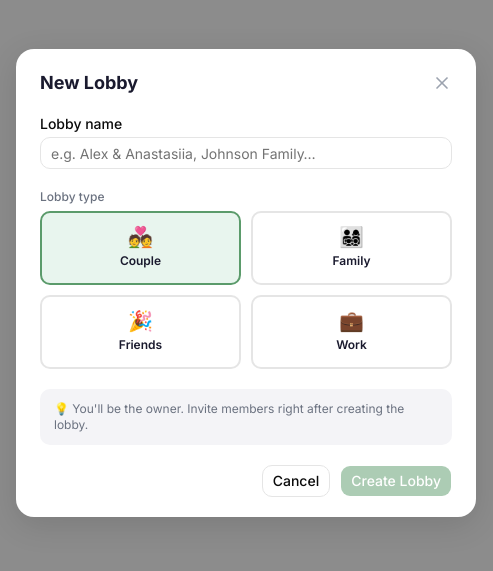
CreateLobbyModal › shows a generic error when the server fails unexpectedly (500)
In the field labelled "Lobby name": (246, 153) [40,137,452,169], type "Weekend Crew"
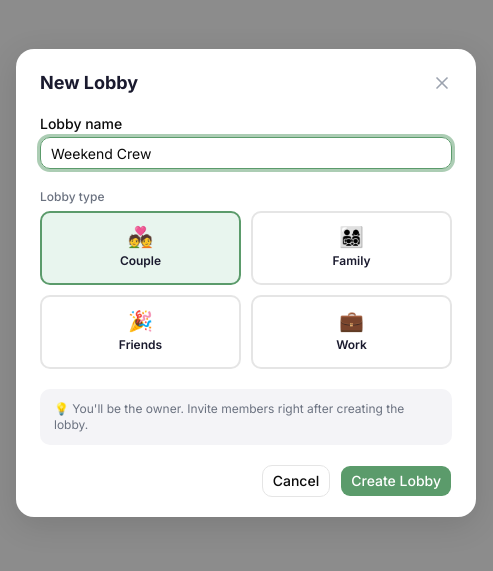
Click the button "Create Lobby": (396, 481) [340,465,452,497]
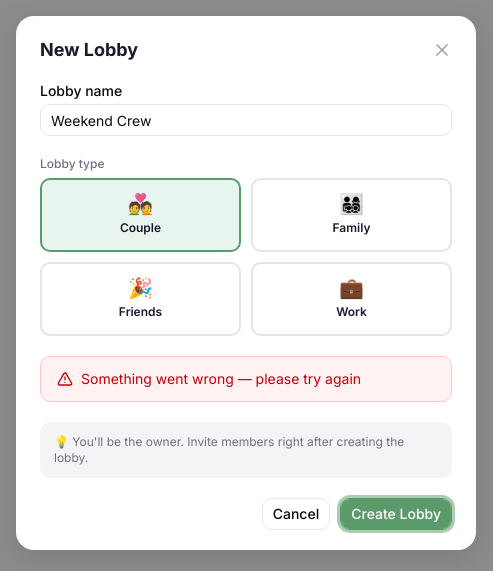
Expected: the message reads "Something went wrong — please try again", [81,370,361,387]
